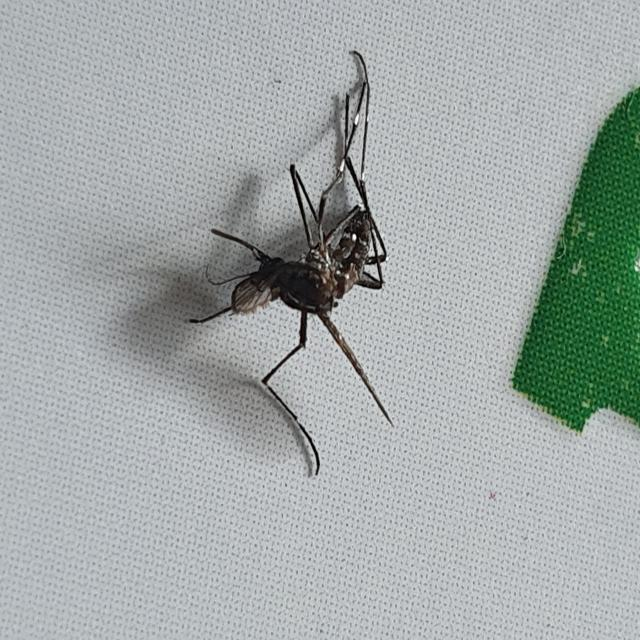albopictus: (188, 48, 410, 489)
